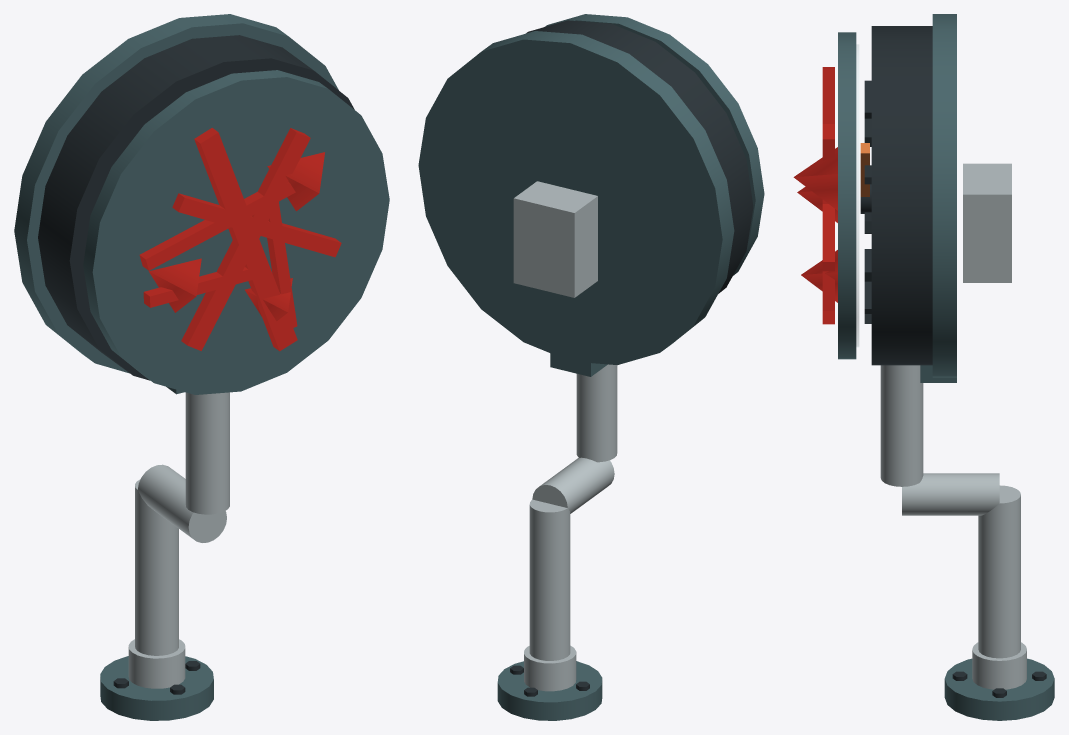
The model's file is pressure_gauge.glb.
3 renders of one model, left to right at view 1: azimuth 30°, elevation 25°; view 2: azimuth 150°, elevation 25°; view 3: azimuth 270°, elevation 25°, orthographic. The views are drawn at different scales.
Visible parts, largest first — view 1: pressure_gauge__body, pressure_gauge__crack; view 2: pressure_gauge__body; view 3: pressure_gauge__body, pressure_gauge__crack, pressure_gauge__glass, pressure_gauge__lens.
Part boxes in pixels (<box>): pressure_gauge__body: <box>14,14,389,720</box>; pressure_gauge__crack: <box>139,128,341,351</box>; pressure_gauge__body: <box>418,14,764,720</box>; pressure_gauge__body: <box>838,14,1054,720</box>; pressure_gauge__crack: <box>793,67,837,324</box>; pressure_gauge__glass: <box>860,80,871,323</box>; pressure_gauge__lens: <box>856,44,858,346</box>.
Size of the model in its own units: 0.6 by 1.21 by 0.428.
